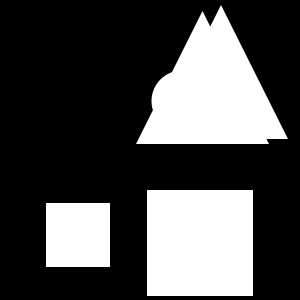circle: (147, 190, 253, 296), (46, 203, 110, 267)
rectangle: (152, 70, 212, 132)
triangle: (154, 5, 288, 139), (136, 11, 269, 144)
